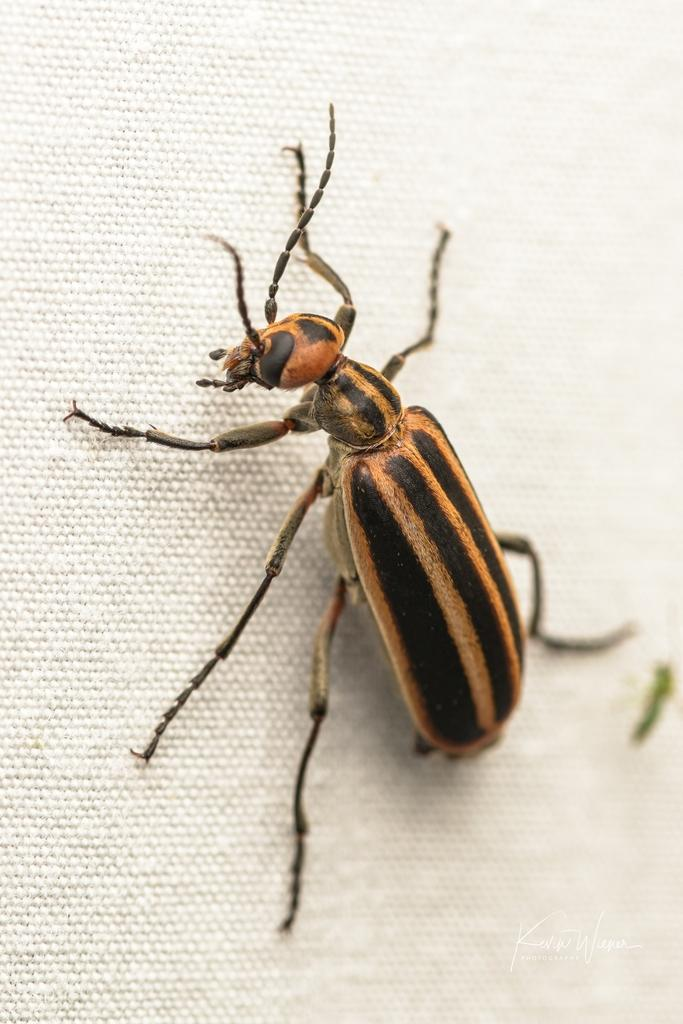blister_beetle: (0, 36, 683, 969)
